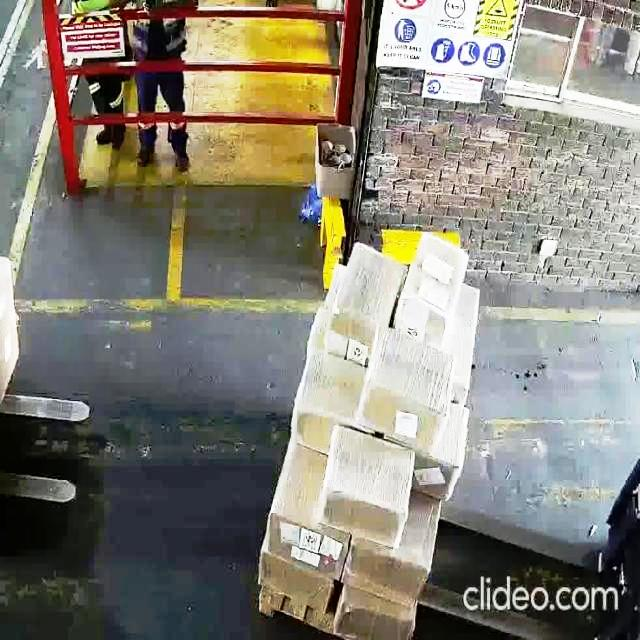Box: (364, 330, 455, 436), (322, 434, 413, 540), (394, 230, 475, 335), (298, 348, 361, 443), (348, 540, 431, 610), (255, 550, 328, 620), (340, 242, 392, 340), (265, 508, 346, 570), (338, 593, 412, 640)
